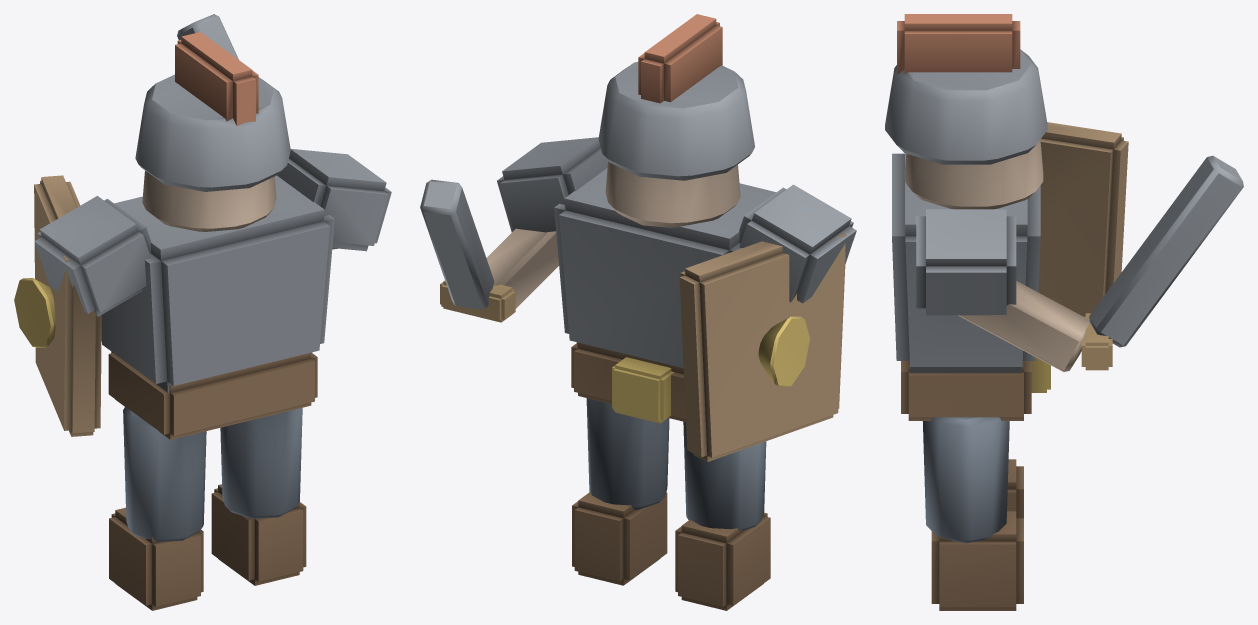
The model's file is squire_footman_lod0.glb.
The picture shows the model from 3 angles, left to right: view 1: azimuth 30°, elevation 25°; view 2: azimuth 150°, elevation 25°; view 3: azimuth 270°, elevation 25°; orthographic projection. The views are drawn at different scales.
Visible parts, largest first — view 1: squire_footman; view 2: squire_footman; view 3: squire_footman.
Boxes of the visible parts, x1,y1,x2,y2 form: squire_footman: (14,14,391,610); squire_footman: (420,14,856,610); squire_footman: (885,14,1243,610).
Size of the model in its own units: 1.02 by 1.59 by 0.9319.
